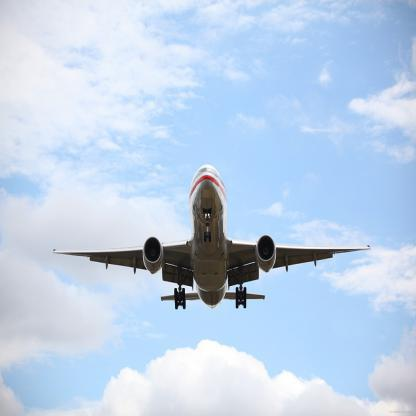CIV_Plane: (45, 161, 375, 316)
